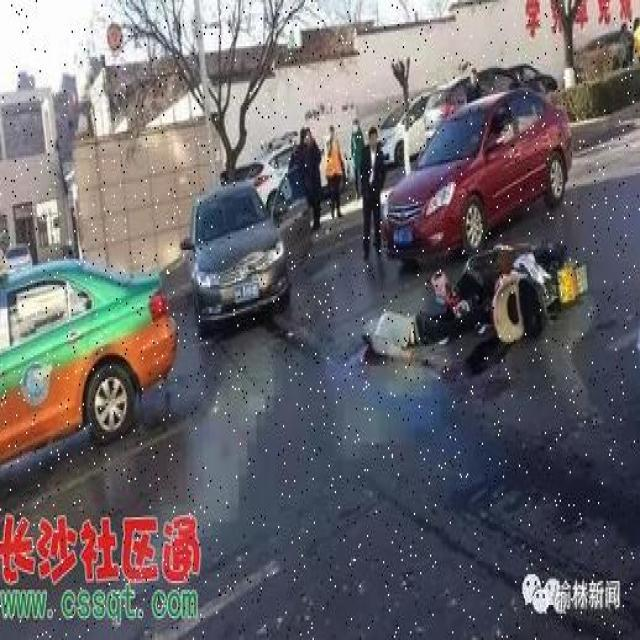fall: (354, 298, 490, 359)
